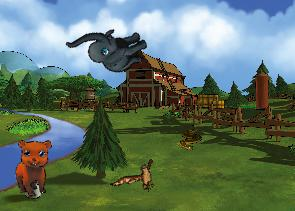bear: (10, 135, 60, 199)
eagle: (109, 148, 167, 207)
elephant: (65, 6, 153, 90)
